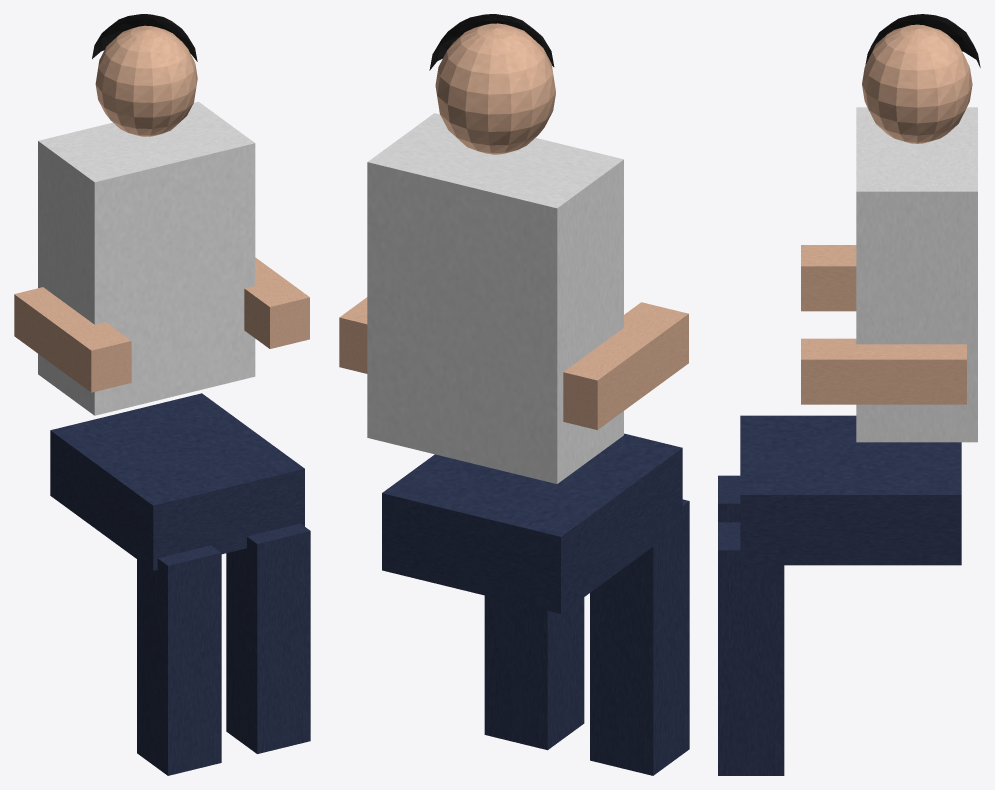
File: Espectador4.obj
The picture shows the model from 3 angles, left to right: view 1: azimuth 30°, elevation 25°; view 2: azimuth 150°, elevation 25°; view 3: azimuth 270°, elevation 25°; orthographic projection. The views are drawn at different scales.
Bounding box in the file's own units: 0.49 × 1.43 × 0.475.
1 material, 1 textured.
